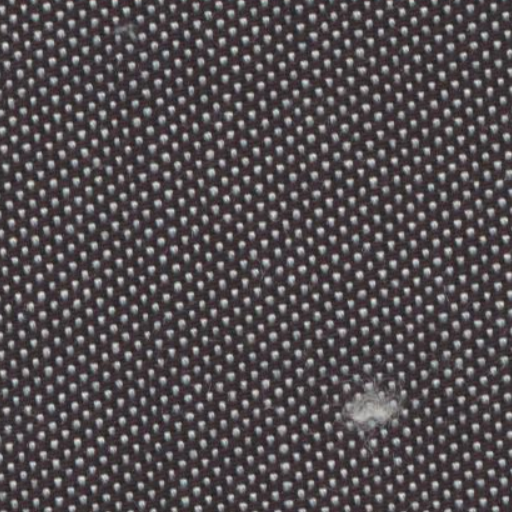PoDong: (326, 346, 429, 460)
